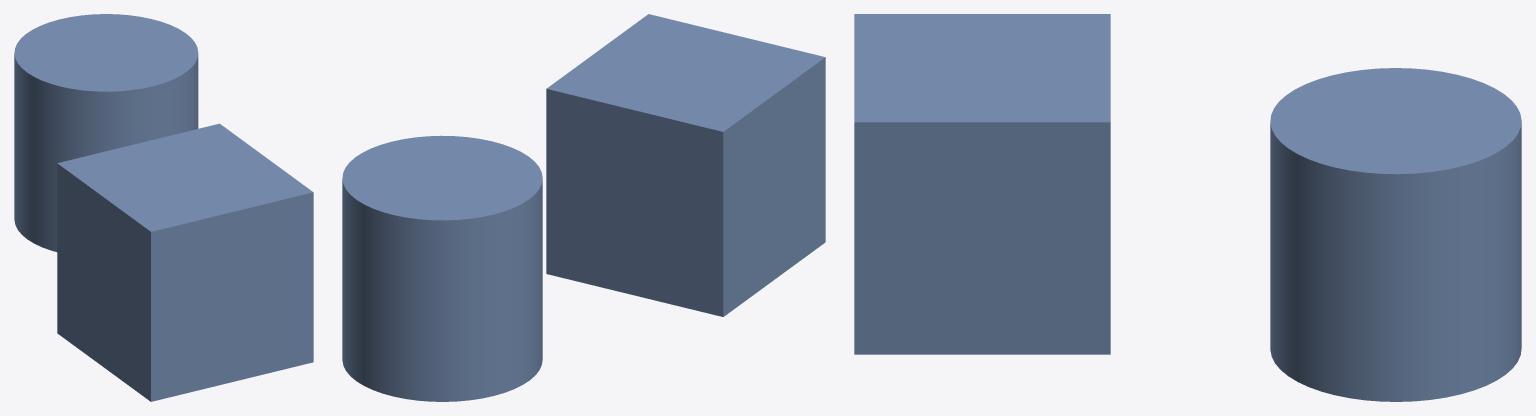
File: asset.glb
The picture shows the model from 3 angles, left to right: view 1: azimuth 30°, elevation 25°; view 2: azimuth 150°, elevation 25°; view 3: azimuth 270°, elevation 25°; orthographic projection. The views are drawn at different scales.
Visible parts, largest first — view 1: Cube, Cylinder; view 2: Cube, Cylinder; view 3: Cube, Cylinder.
Part boxes in pixels (box(x1,y1,x2,y2)): Cube: box(57, 123, 313, 401); Cylinder: box(14, 14, 198, 251); Cube: box(546, 14, 825, 316); Cylinder: box(342, 135, 542, 401); Cube: box(854, 14, 1110, 354); Cylinder: box(1270, 68, 1521, 401).
Size of the model in its own units: 1.43 by 1 by 2.6.
